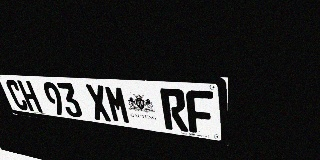3: (56, 82, 84, 118)
9: (41, 82, 68, 116)
C: (4, 80, 30, 111)
F: (185, 90, 214, 135)
H: (17, 80, 43, 113)
M: (103, 85, 132, 124)
R: (160, 88, 188, 132)
X: (84, 84, 112, 122)
